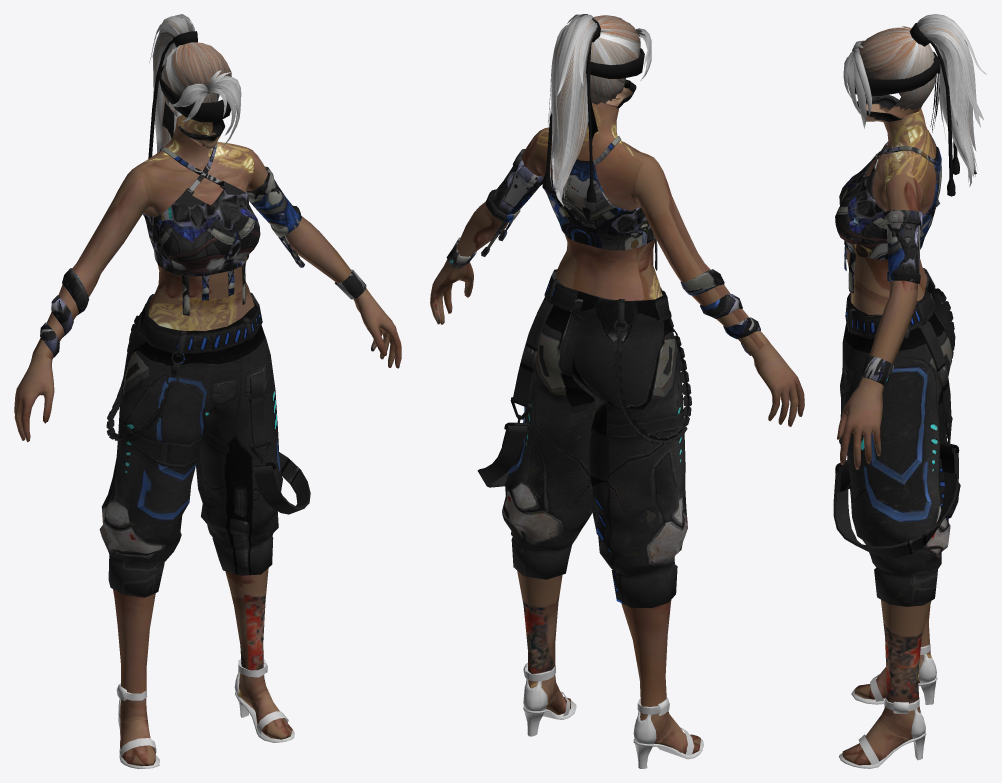
Rendered from 17 dvg.obj.
3 renders of one model, left to right at view 1: azimuth 30°, elevation 25°; view 2: azimuth 150°, elevation 25°; view 3: azimuth 270°, elevation 25°, orthographic. The views are drawn at different scales.
Visible parts, largest first — view 1: Mesh_0005.rip_Mesh_0005.rip_mesh0000, Mesh_0003.rip_Mesh_0003.rip_mesh0000, Mesh_0006.rip_Mesh_0006.rip_mesh0000, Mesh_0009.rip_Mesh_0009.rip_mesh0000, Mesh_0007.rip_Mesh_0007.rip_mesh0000, Mesh_0004.rip_Mesh_0004.rip_mesh0000; view 2: Mesh_0005.rip_Mesh_0005.rip_mesh0000, Mesh_0003.rip_Mesh_0003.rip_mesh0000, Mesh_0006.rip_Mesh_0006.rip_mesh0000, Mesh_0009.rip_Mesh_0009.rip_mesh0000, Mesh_0004.rip_Mesh_0004.rip_mesh0000, Mesh_0007.rip_Mesh_0007.rip_mesh0000; view 3: Mesh_0005.rip_Mesh_0005.rip_mesh0000, Mesh_0003.rip_Mesh_0003.rip_mesh0000, Mesh_0009.rip_Mesh_0009.rip_mesh0000, Mesh_0006.rip_Mesh_0006.rip_mesh0000, Mesh_0004.rip_Mesh_0004.rip_mesh0000, Mesh_0007.rip_Mesh_0007.rip_mesh0000.
Boxes of the visible parts, <box> form: Mesh_0005.rip_Mesh_0005.rip_mesh0000: <box>99,292,310,597</box>; Mesh_0003.rip_Mesh_0003.rip_mesh0000: <box>14,115,401,766</box>; Mesh_0006.rip_Mesh_0006.rip_mesh0000: <box>40,143,366,357</box>; Mesh_0009.rip_Mesh_0009.rip_mesh0000: <box>149,14,241,152</box>; Mesh_0007.rip_Mesh_0007.rip_mesh0000: <box>148,31,230,158</box>; Mesh_0004.rip_Mesh_0004.rip_mesh0000: <box>116,659,294,768</box>; Mesh_0005.rip_Mesh_0005.rip_mesh0000: <box>477,269,691,607</box>; Mesh_0003.rip_Mesh_0003.rip_mesh0000: <box>430,63,804,754</box>; Mesh_0006.rip_Mesh_0006.rip_mesh0000: <box>446,136,760,355</box>; Mesh_0009.rip_Mesh_0009.rip_mesh0000: <box>548,14,651,206</box>; Mesh_0004.rip_Mesh_0004.rip_mesh0000: <box>523,663,703,768</box>; Mesh_0007.rip_Mesh_0007.rip_mesh0000: <box>542,18,644,202</box>; Mesh_0005.rip_Mesh_0005.rip_mesh0000: <box>833,268,960,606</box>; Mesh_0003.rip_Mesh_0003.rip_mesh0000: <box>837,94,936,765</box>; Mesh_0009.rip_Mesh_0009.rip_mesh0000: <box>843,14,986,186</box>; Mesh_0006.rip_Mesh_0006.rip_mesh0000: <box>835,134,941,386</box>; Mesh_0004.rip_Mesh_0004.rip_mesh0000: <box>839,644,937,768</box>; Mesh_0007.rip_Mesh_0007.rip_mesh0000: <box>854,23,959,196</box>.
Size of the model in its own units: 3.27 by 6.06 by 1.18.
